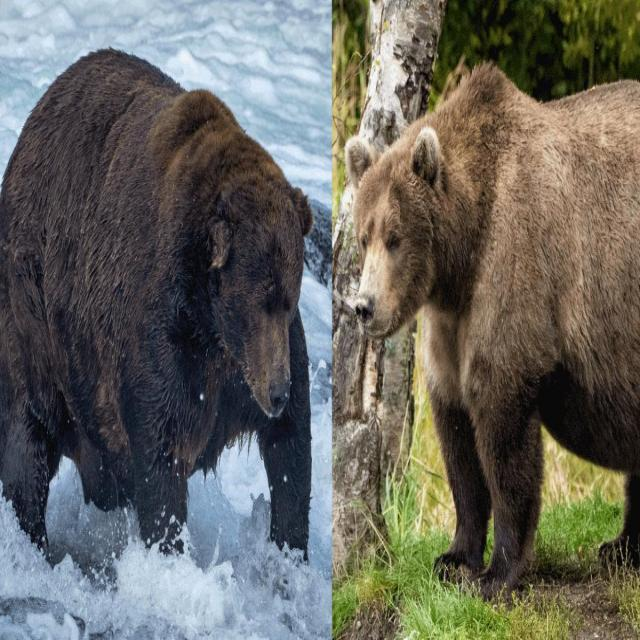Bear: (336, 64, 640, 602), (0, 49, 314, 563)
